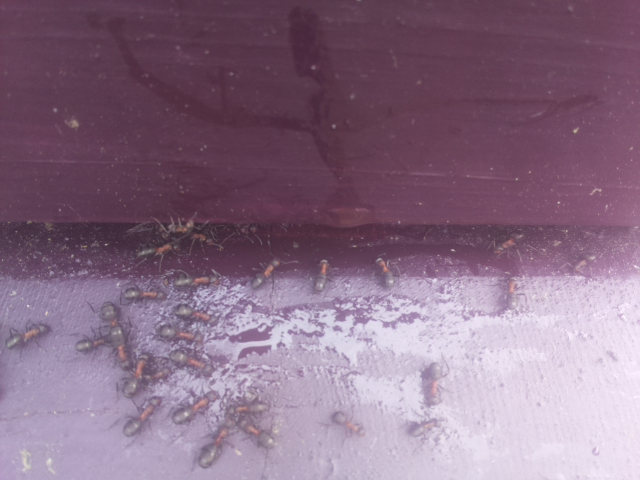ant: (116, 376, 171, 453), (191, 413, 239, 480), (165, 380, 225, 432), (129, 228, 198, 261), (118, 344, 154, 405), (0, 319, 58, 356), (242, 252, 288, 298), (67, 326, 129, 360), (233, 415, 283, 454), (97, 298, 130, 355), (418, 358, 448, 405), (164, 347, 213, 375), (489, 228, 530, 258), (328, 408, 366, 439), (168, 268, 224, 289), (176, 299, 217, 327), (156, 325, 205, 346), (372, 252, 398, 288), (122, 285, 173, 303), (311, 253, 331, 295), (498, 279, 523, 311)
